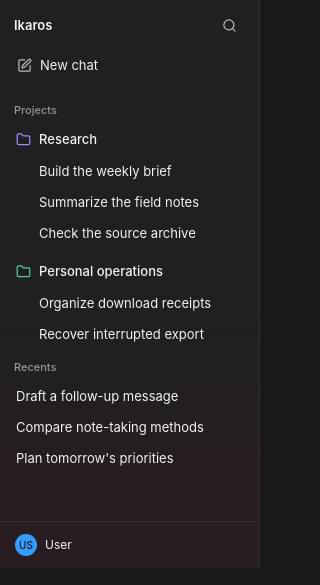
Test: Sidebar conversation ownership › collapses project and recent groups independently
This screenshot has width=320, height=585.
Click the button "Projects" at coordinates (43, 110), box 14,102 -> 73,118
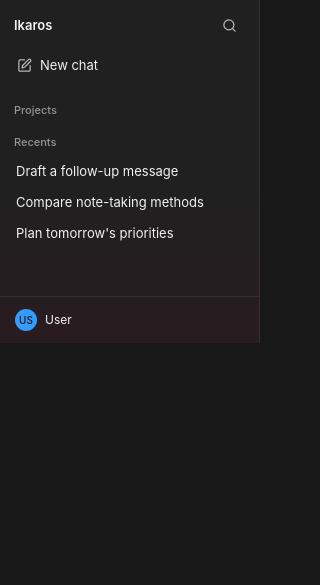
Expected: the button "Plan tomorrow's priorities" is shown, 16,218 -> 217,248
Expected: the button "Research" is gone
Click the button "Recents" at coordinates (43, 142), box 14,134 -> 72,150
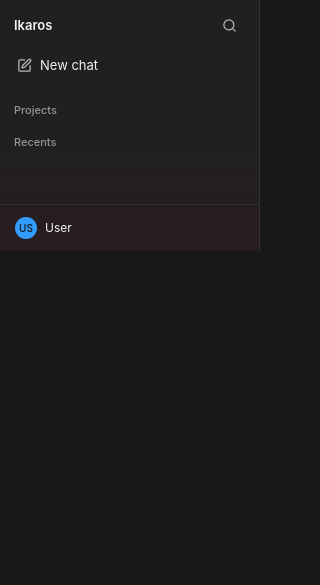
Expected: the button "Plan tomorrow's priorities" is gone
